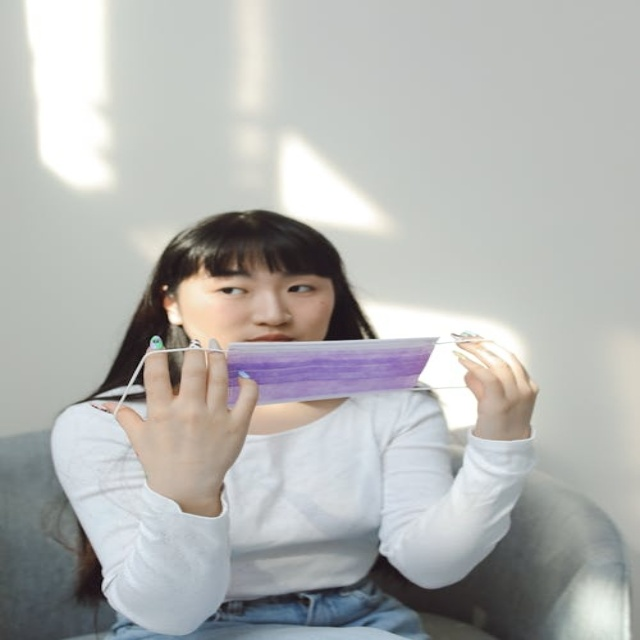Sin_gafas: (202, 274, 334, 302)
Sin_guantes: (112, 337, 259, 499), (444, 328, 544, 431)
Sin_mascara: (245, 333, 295, 344)
